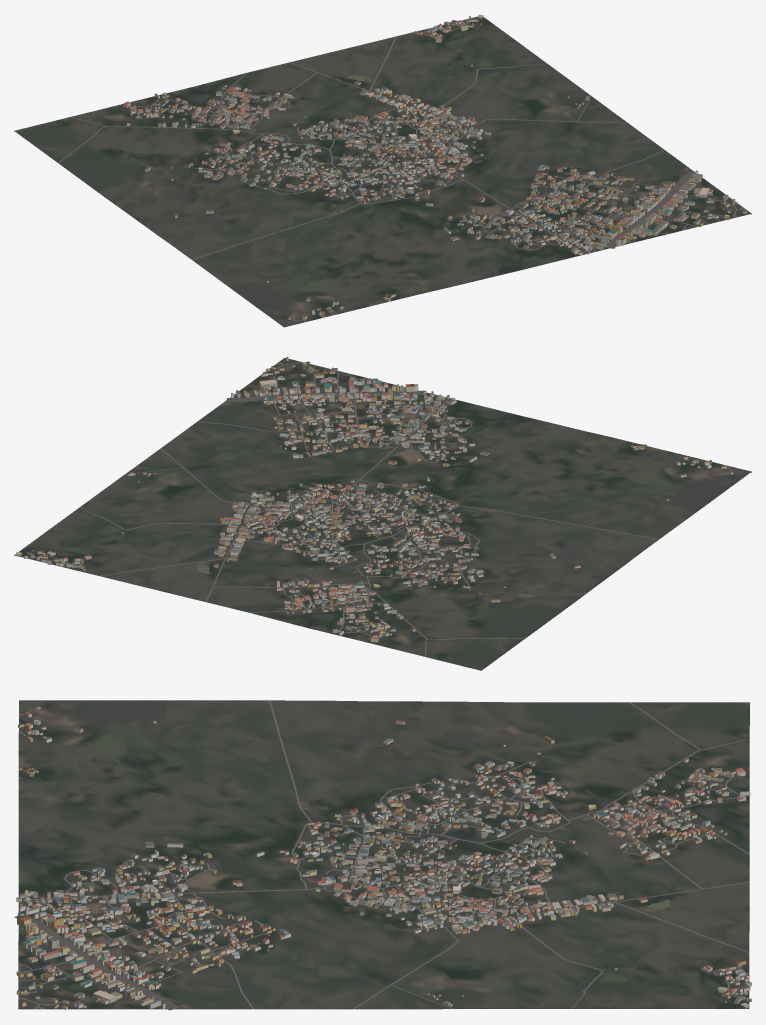
The picture shows the model from 3 angles, top to bottom: view 1: azimuth 30°, elevation 25°; view 2: azimuth 150°, elevation 25°; view 3: azimuth 270°, elevation 25°; orthographic projection. The views are drawn at different scales.
Visible parts, largest first — view 1: ground, buildings, roads; view 2: ground, buildings, roads; view 3: ground, buildings, roads.
Boxes of the visible parts, x1,y1,x2,y2 form: ground: [14, 17, 751, 327]; buildings: [123, 14, 746, 320]; roads: [58, 18, 745, 322]; ground: [14, 358, 751, 670]; buildings: [16, 357, 733, 642]; roads: [27, 361, 732, 656]; ground: [18, 700, 749, 1009]; buildings: [16, 706, 751, 1009]; roads: [14, 700, 749, 1010].
Bounding box in the file's own units: 1406 × 25.66 × 1415.
